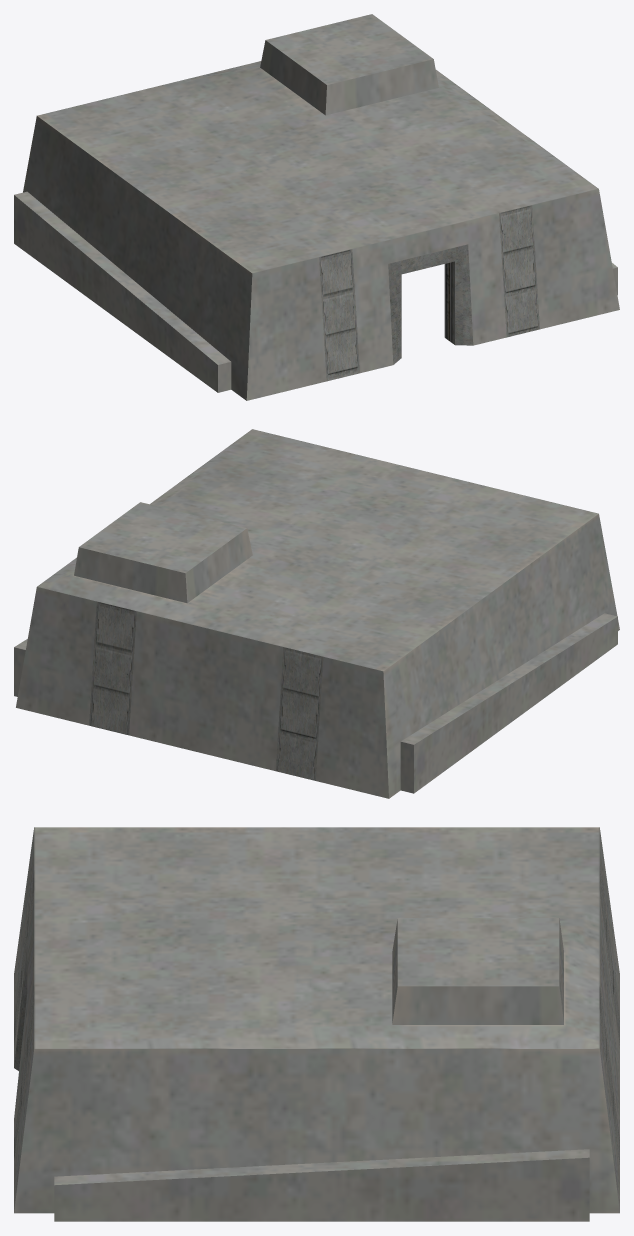
Rendered from mun_all_military_storage_shed_impl_s01_r0_exterior_mesh_exterior_l2.fbx.
3 renders of one model, top to bottom at view 1: azimuth 30°, elevation 25°; view 2: azimuth 150°, elevation 25°; view 3: azimuth 270°, elevation 25°, orthographic. The views are drawn at different scales.
Visible parts, largest first — view 1: mesh_node; view 2: mesh_node; view 3: mesh_node.
Boxes of the visible parts, box(x1,y1,x2,y2) form: mesh_node: box(14, 14, 619, 400); mesh_node: box(14, 429, 619, 798); mesh_node: box(14, 827, 619, 1221).
Bounding box in the file's own units: 15 × 5.5 × 15.
Materials: 1 (1 with a texture image).
